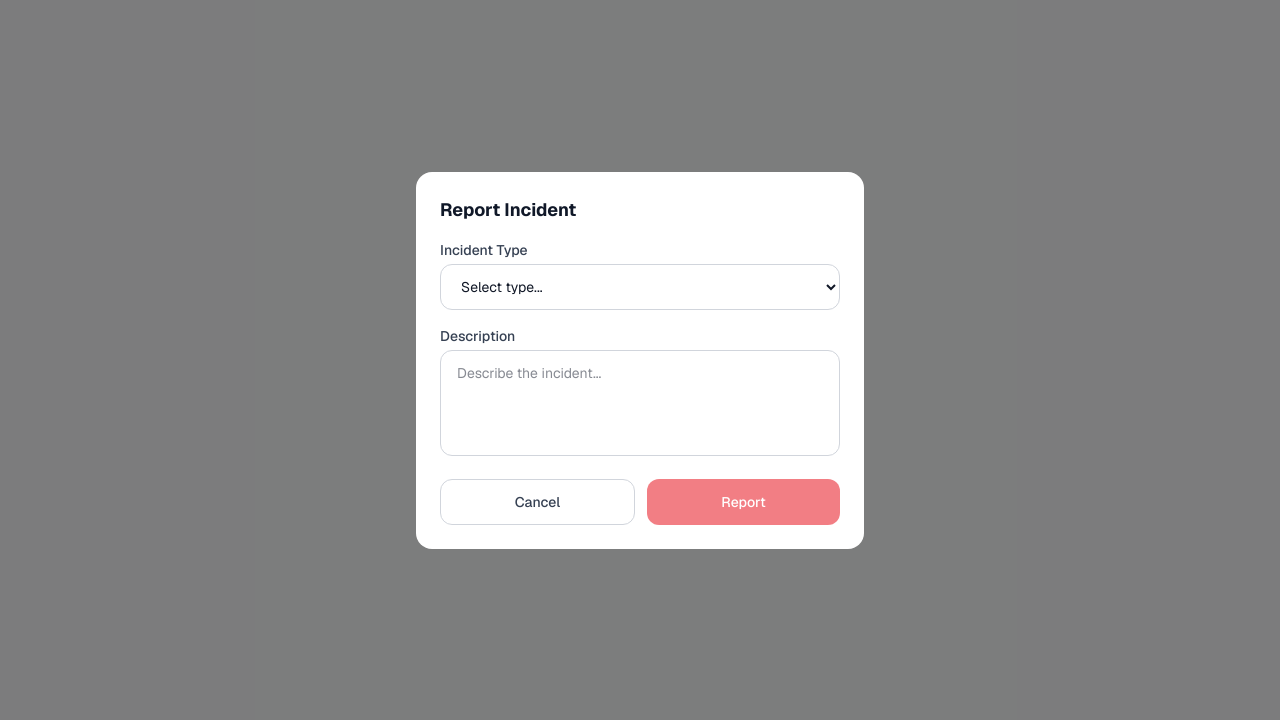
Test: IncidentModal › Phase 1 (Details) › shows error message and stays in phase 1 when reportIncident returns an error
Step 1. Select "Injured Animal" in the dropdown → (640, 286), box [440,264,840,310]
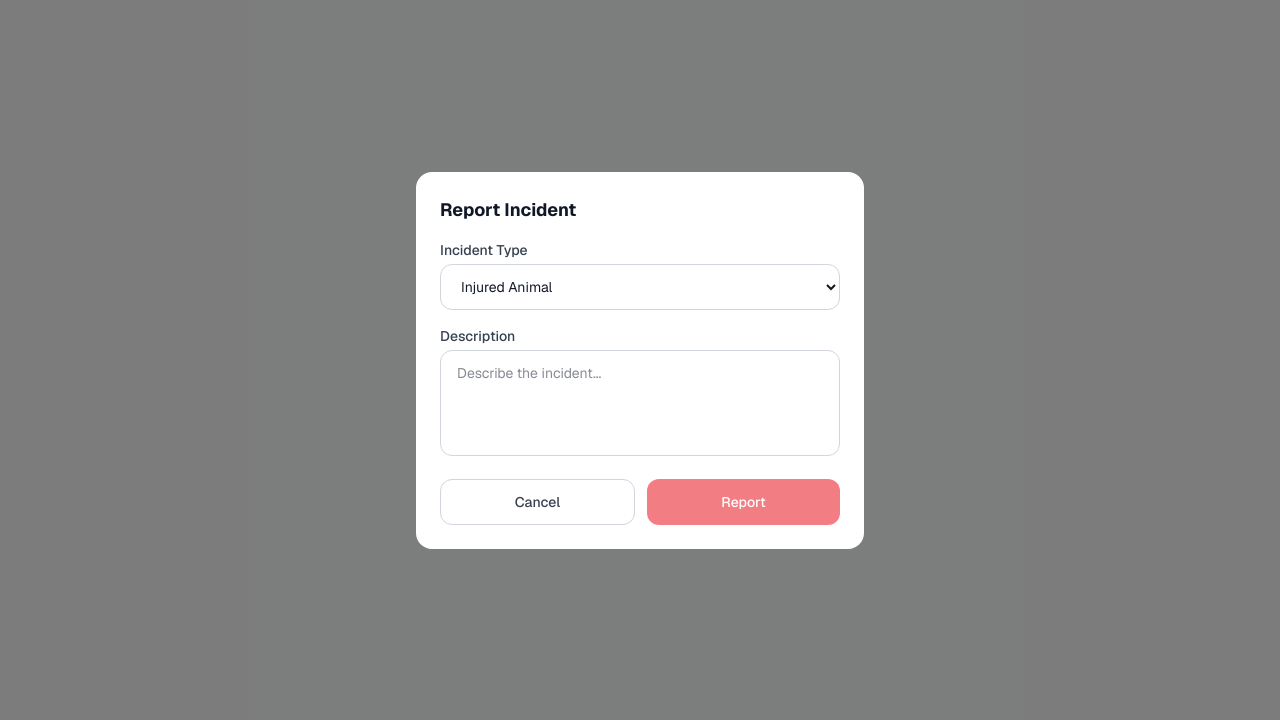
Step 2. Type "urgent" into the text box with placeholder "Describe the incident..." → (640, 402), box [440,350,840,456]
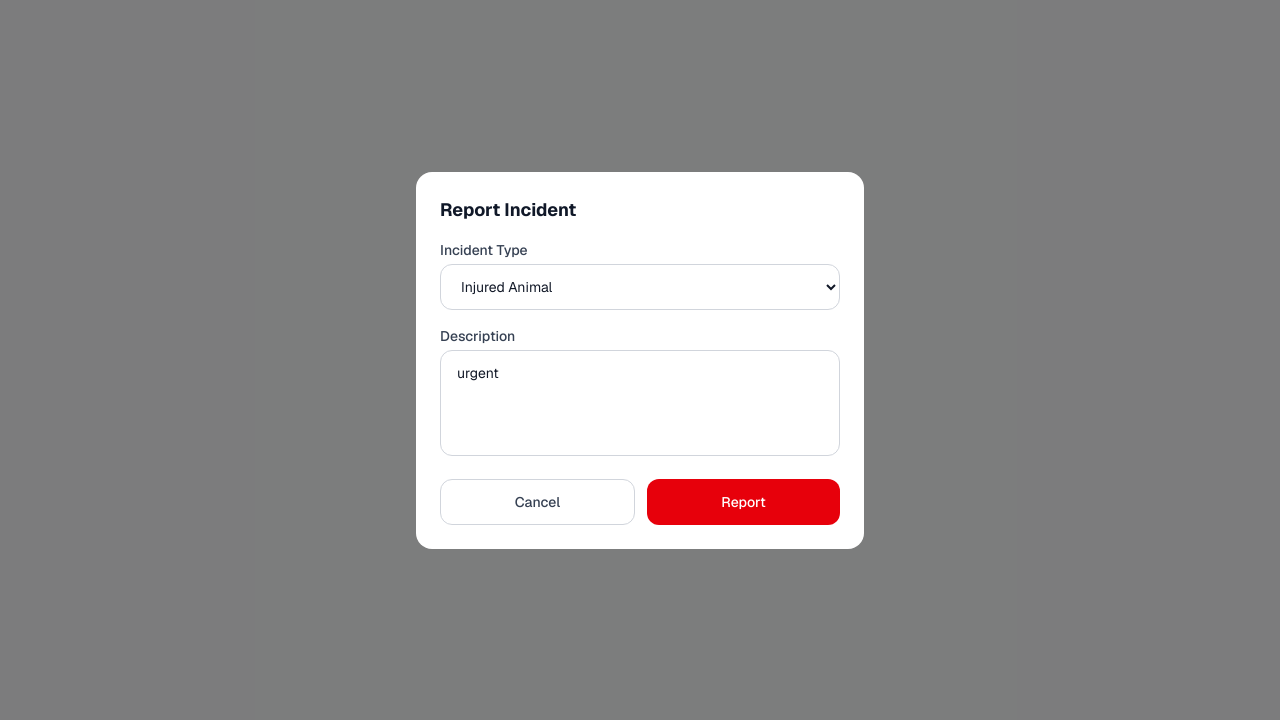
Step 3. Click the button "Report" → click(744, 502), box [647,478,840,524]
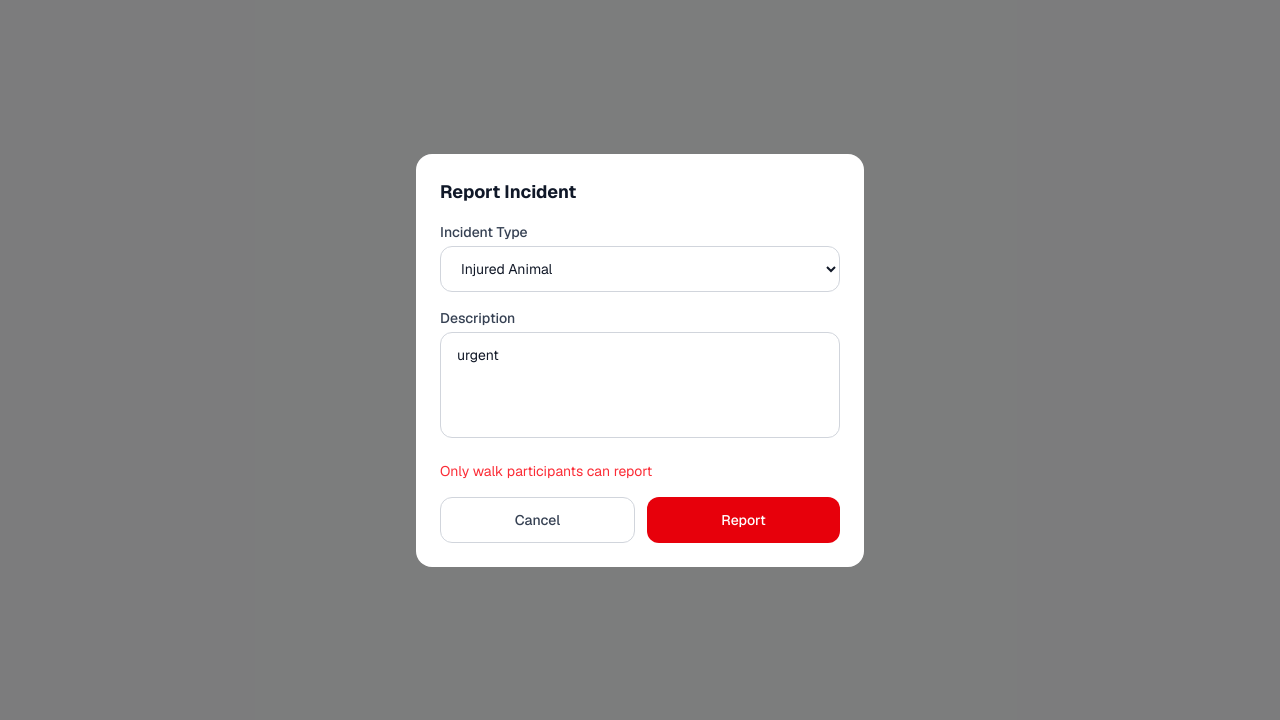
Expected: the heading "Report Incident" is shown, [440,180,576,202]
Now the text "Only walk participants can report" is shown, box [440,462,652,480]
